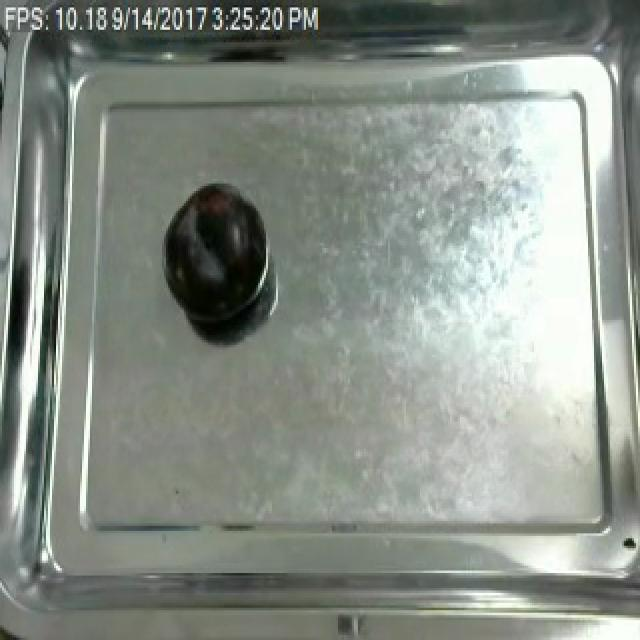Fruit: (160, 178, 266, 332)
